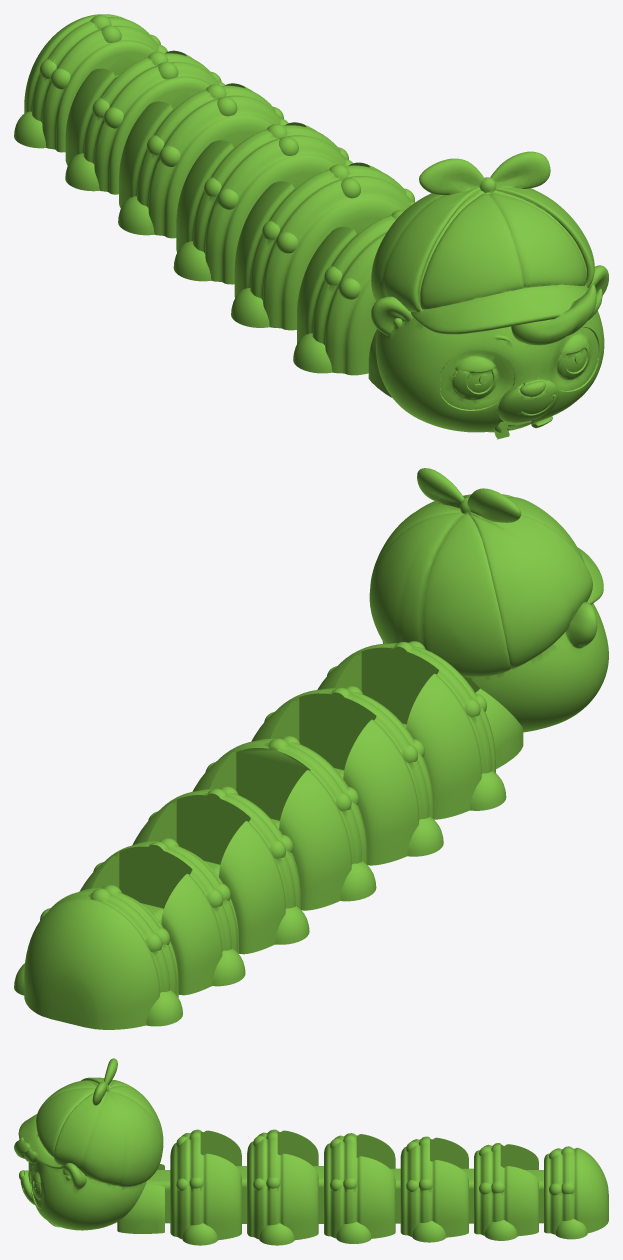
The model's file is jerry.glb.
3 renders of one model, top to bottom at view 1: azimuth 30°, elevation 25°; view 2: azimuth 150°, elevation 25°; view 3: azimuth 270°, elevation 25°, orthographic. The views are drawn at different scales.
Parts seen in each view (by area): view 1: head, seg2, seg3, seg4, seg5, seg1, seg6; view 2: head, seg6, seg2, seg3, seg1, seg4, seg5; view 3: head, seg1, seg2, seg3, seg4, seg5, seg6.
Part boxes in pixels (box(x1,y1,x2,y2)): head: box(368, 151, 608, 439); seg2: box(231, 162, 414, 330); seg3: box(173, 122, 352, 284); seg4: box(118, 83, 288, 238); seg5: box(65, 50, 225, 194); seg1: box(293, 210, 404, 375); seg6: box(14, 14, 167, 152); head: box(369, 468, 608, 768); seg6: box(14, 885, 182, 1029); seg2: box(251, 686, 443, 865); seg3: box(192, 736, 376, 910); seg1: box(317, 641, 506, 819); seg4: box(132, 786, 309, 954); seg5: box(80, 838, 245, 995); head: box(14, 1058, 164, 1233); seg1: box(146, 1129, 241, 1245); seg2: box(236, 1129, 318, 1245); seg3: box(313, 1133, 395, 1243); seg4: box(390, 1136, 468, 1242); seg5: box(461, 1143, 538, 1240); seg6: box(525, 1146, 608, 1239).
Bounding box in the file's own units: 0.46 × 0.4786 × 1.74.
